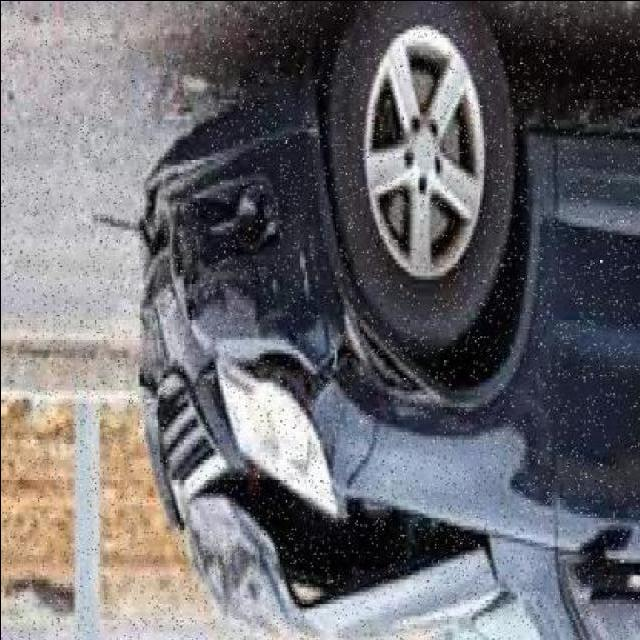bonnet-dent: (157, 492, 507, 640)
fender-dent: (344, 296, 547, 530)
front-bumper-dent: (140, 123, 351, 399)
